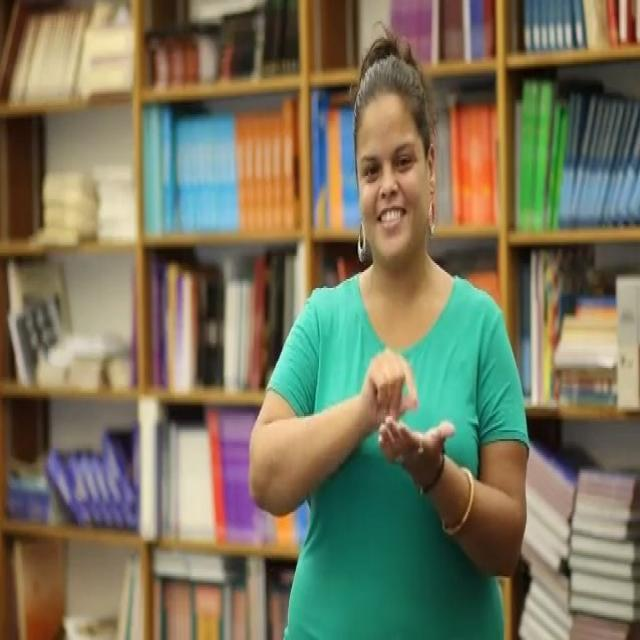chicken: (352, 336, 459, 484)
